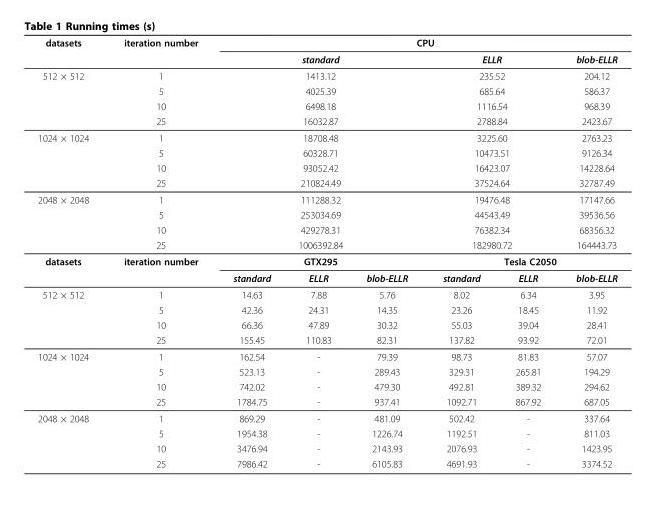table: (37, 36, 616, 468)
table column: (105, 36, 215, 468), (348, 36, 424, 468), (424, 36, 497, 468), (215, 36, 287, 468), (37, 36, 105, 468), (287, 36, 348, 468), (497, 36, 557, 468), (557, 36, 616, 468)
table column header: (37, 36, 616, 67)
table row: (37, 50, 616, 67), (37, 252, 616, 269), (37, 269, 616, 286), (37, 67, 616, 83), (37, 113, 616, 129), (37, 129, 616, 145), (37, 175, 616, 191), (37, 206, 616, 222), (37, 286, 616, 302), (37, 332, 616, 348), (37, 393, 616, 409), (37, 409, 616, 425), (37, 83, 616, 98), (37, 98, 616, 113), (37, 145, 616, 160), (37, 160, 616, 175), (37, 191, 616, 206), (37, 222, 616, 237), (37, 237, 616, 252), (37, 302, 616, 317), (37, 317, 616, 332), (37, 348, 616, 363), (37, 363, 616, 378), (37, 378, 616, 393), (37, 425, 616, 440), (37, 440, 616, 455), (37, 36, 616, 50), (37, 455, 616, 468)
table spanning cell: (215, 36, 616, 50), (37, 67, 105, 129), (37, 129, 105, 191), (37, 286, 105, 348), (37, 191, 105, 252), (37, 348, 105, 409), (37, 409, 105, 468), (215, 50, 424, 67), (215, 252, 424, 269), (105, 36, 215, 67), (215, 67, 424, 83), (215, 113, 424, 129), (215, 129, 424, 145), (215, 175, 424, 191), (215, 206, 424, 222), (424, 252, 616, 269), (215, 83, 424, 98), (215, 98, 424, 113), (215, 145, 424, 160), (215, 160, 424, 175), (215, 191, 424, 206), (215, 222, 424, 237), (215, 237, 424, 252), (37, 252, 105, 286), (424, 50, 557, 67), (424, 67, 557, 83), (424, 113, 557, 129), (424, 129, 557, 145), (424, 175, 557, 191), (424, 206, 557, 222), (37, 36, 105, 67), (424, 83, 557, 98), (424, 98, 557, 113), (424, 145, 557, 160), (424, 160, 557, 175), (424, 191, 557, 206), (424, 222, 557, 237), (424, 237, 557, 252)
